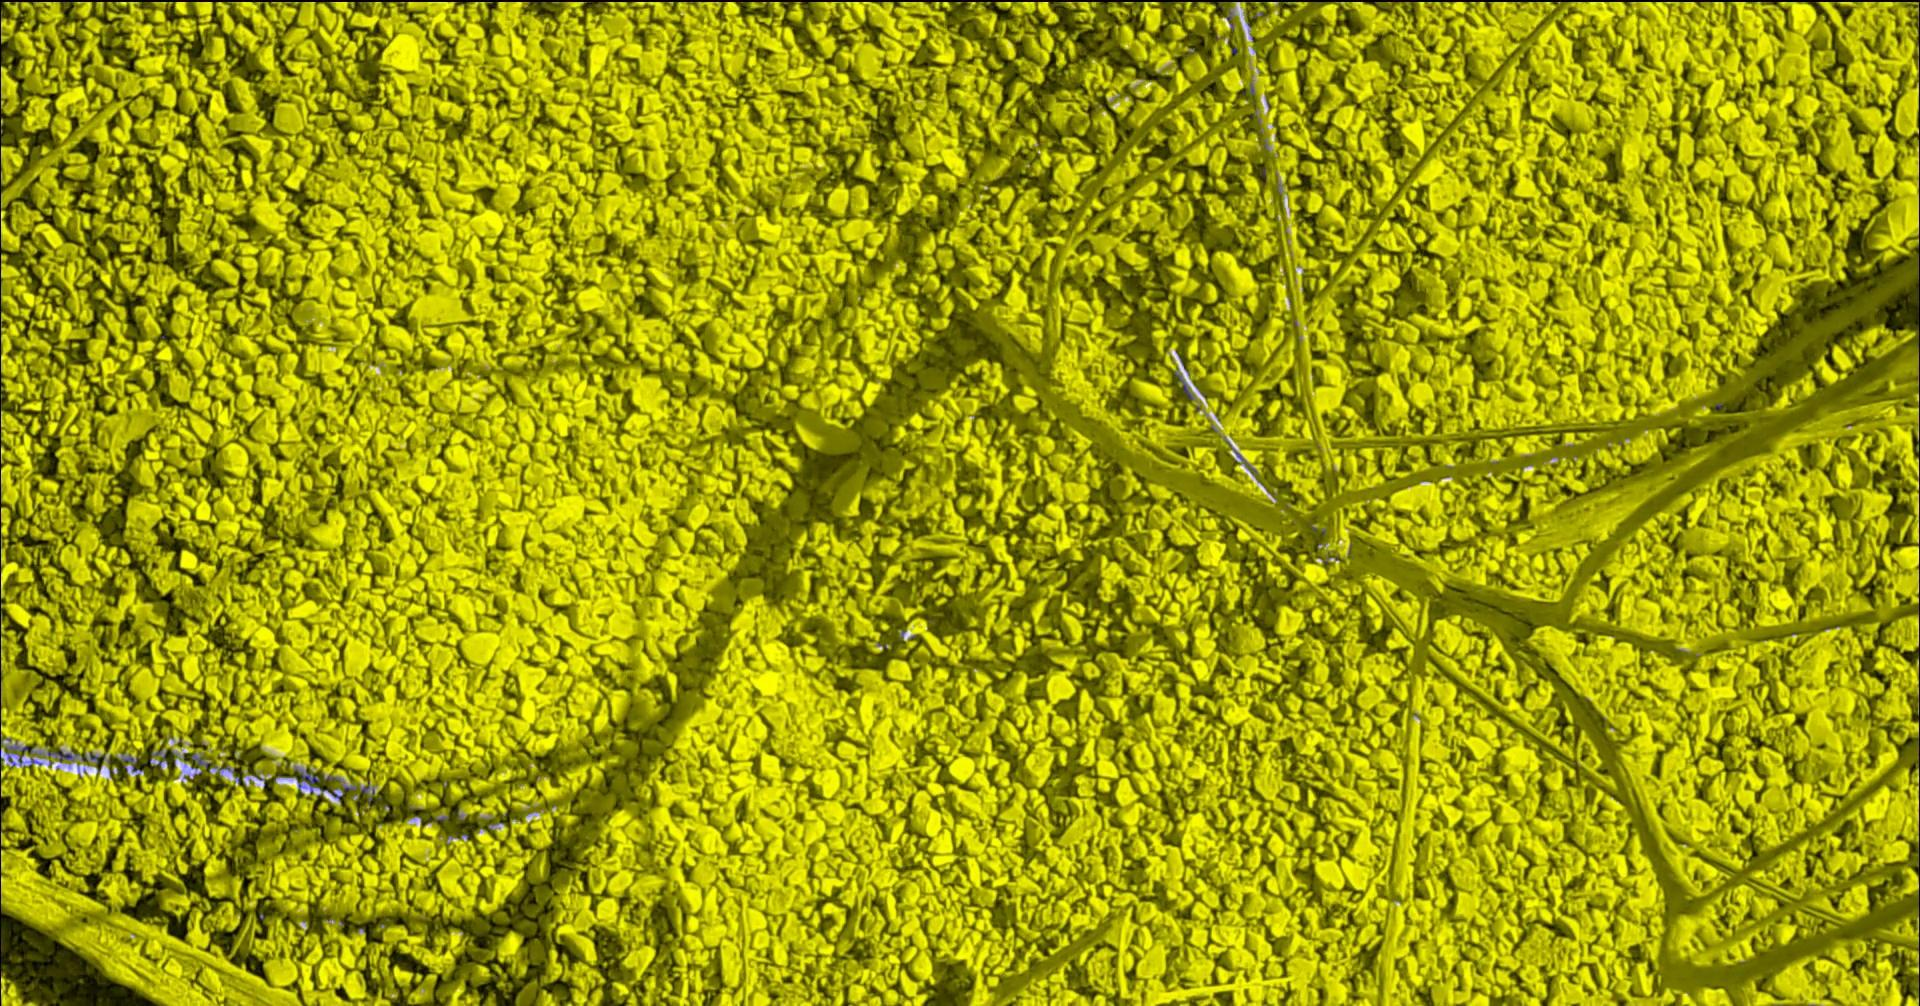ant: (0, 738, 41, 766), (297, 768, 340, 793), (119, 756, 142, 775), (81, 752, 109, 763), (47, 749, 77, 760), (149, 749, 165, 766)
